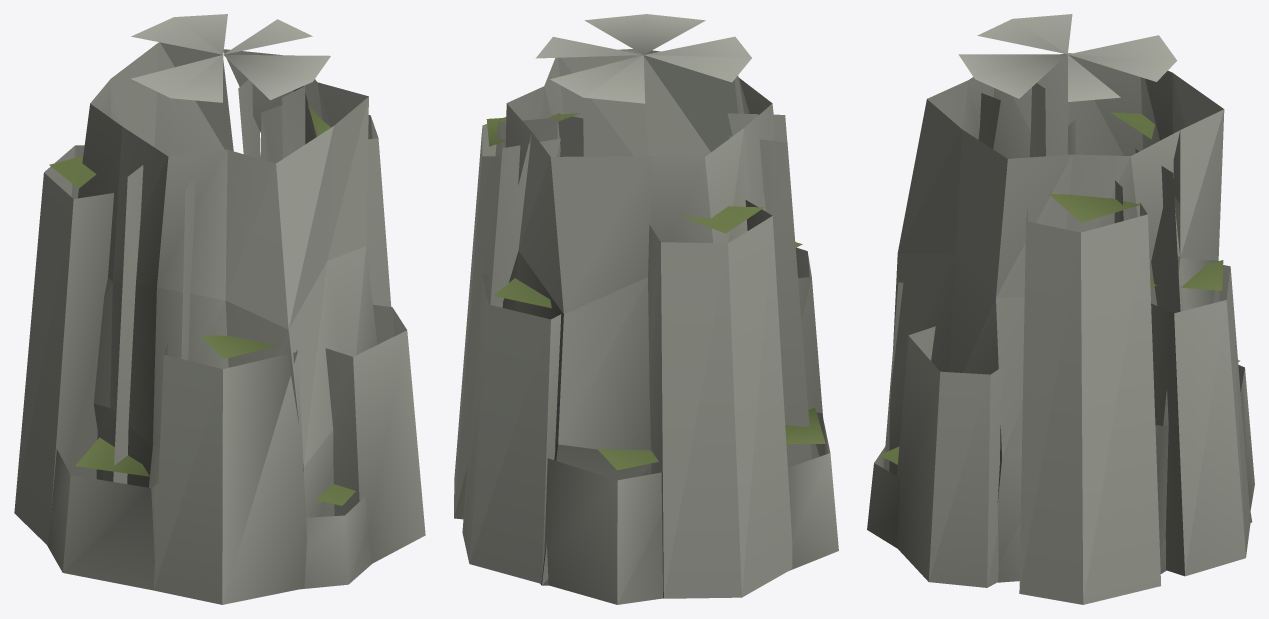
File: karst.lod.glb
3 renders of one model, left to right at view 1: azimuth 30°, elevation 25°; view 2: azimuth 150°, elevation 25°; view 3: azimuth 270°, elevation 25°, orthographic.
Visible parts, largest first — view 1: karst; view 2: karst; view 3: karst.
Boxes of the visible parts, x1,y1,x2,y2 form: karst: (14, 14, 425, 604); karst: (454, 14, 838, 604); karst: (867, 14, 1254, 604).
Size of the model in its own units: 19.6 by 24.19 by 18.36.
